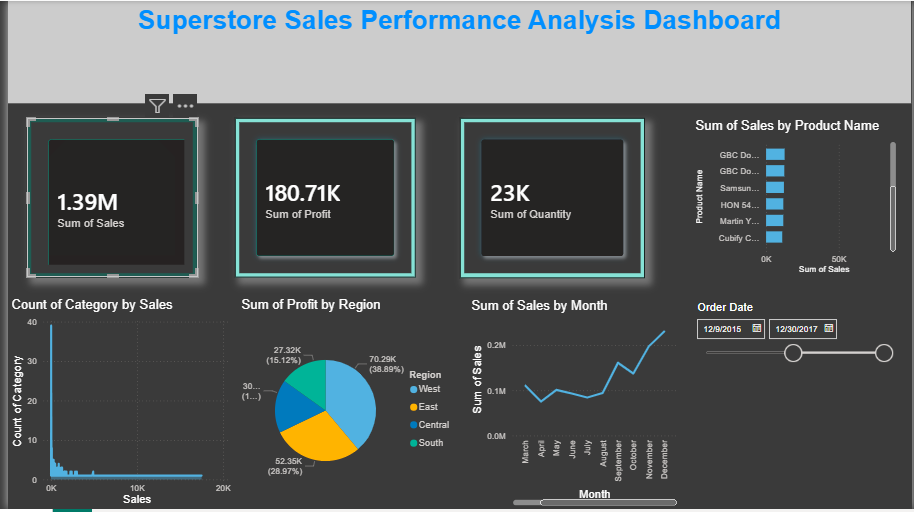

This screenshot's page, from the dashboard's own definition file:
{"tool":"powerbi","page":{"name":"Page 1","canvas":[1280,720],"ordinal":0},"visuals":[{"type":"cardVisual","fields":{"Data":["Sum(Sample - Superstore.Sales)"]},"box":[27.4,165.6,241.9,226.1],"z":0},{"type":"cardVisual","fields":{"Data":["Sum(Sample - Superstore.Profit)"]},"box":[321.1,165.6,256.3,226.1],"z":1000},{"type":"cardVisual","fields":{"Data":["Sum(Sample - Superstore.Quantity)"]},"box":[640,166.3,262,226.8],"z":2000},{"type":"areaChart","fields":{"Category":["Sample - Superstore.Sales"],"Y":["CountNonNull(Sample - Superstore.Category)"]},"box":[0,419.9,320.8,300.7],"z":3000},{"type":"pieChart","fields":{"Y":["Sum(Sample - Superstore.Profit)"],"Category":["Sample - Superstore.Region"]},"box":[325.9,419.9,314.1,300.7],"z":3001},{"type":"lineChart","fields":{"Y":["Sum(Sample - Superstore.Sales)"],"Category":["Sample - Superstore.Order Date.Variation.Date Hierarchy.Month"]},"box":[651.8,421.6,300.7,299],"z":3002},{"type":"clusteredBarChart","fields":{"Category":["Sample - Superstore.Product Name"],"Y":["Sum(Sample - Superstore.Sales)"]},"box":[969.2,166.3,294,226.8],"z":3003},{"type":"slicer","fields":{"Values":["Sample - Superstore.Order Date"]},"box":[964.2,421.6,299,299],"z":3004},{"type":"textbox","box":[0,0,1280.2,145.4],"z":3005}]}

Visuals, with their boxes in screenshot pixels (x1, y1, x2, y2), scaled from the page's 1280x720 canvas onto the 914x512 screenshot:
cardVisual - Sum(Sample - Superstore.Sales): crop(20, 118, 192, 279)
cardVisual - Sum(Sample - Superstore.Profit): crop(229, 118, 412, 279)
cardVisual - Sum(Sample - Superstore.Quantity): crop(457, 118, 644, 280)
areaChart - Sample - Superstore.Sales x CountNonNull(Sample - Superstore.Category): crop(0, 299, 229, 511)
pieChart - Sum(Sample - Superstore.Profit) x Sample - Superstore.Region: crop(233, 299, 457, 511)
lineChart - Sum(Sample - Superstore.Sales) x Sample - Superstore.Order Date.Variation.Date Hierarchy.Month: crop(465, 300, 680, 511)
clusteredBarChart - Sample - Superstore.Product Name x Sum(Sample - Superstore.Sales): crop(692, 118, 902, 280)
slicer - Sample - Superstore.Order Date: crop(688, 300, 902, 511)
textbox: crop(0, 0, 913, 103)
